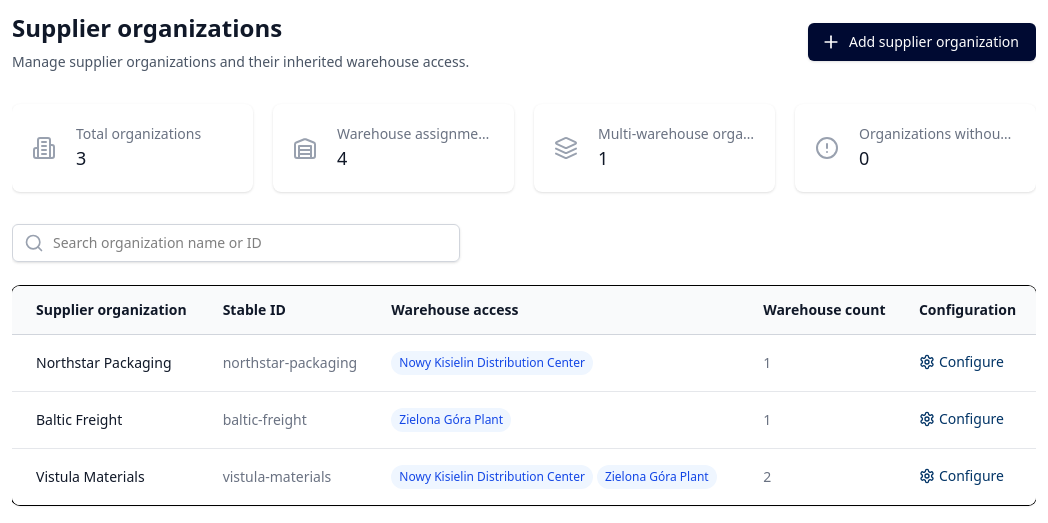
Test case: SupplierOrganizationsPage › 12. searches display names case-insensitively;
In the field labelled "Search organization name or ID": (236, 243) x1=12 y1=224 x2=460 y2=262, type "bALtIc"
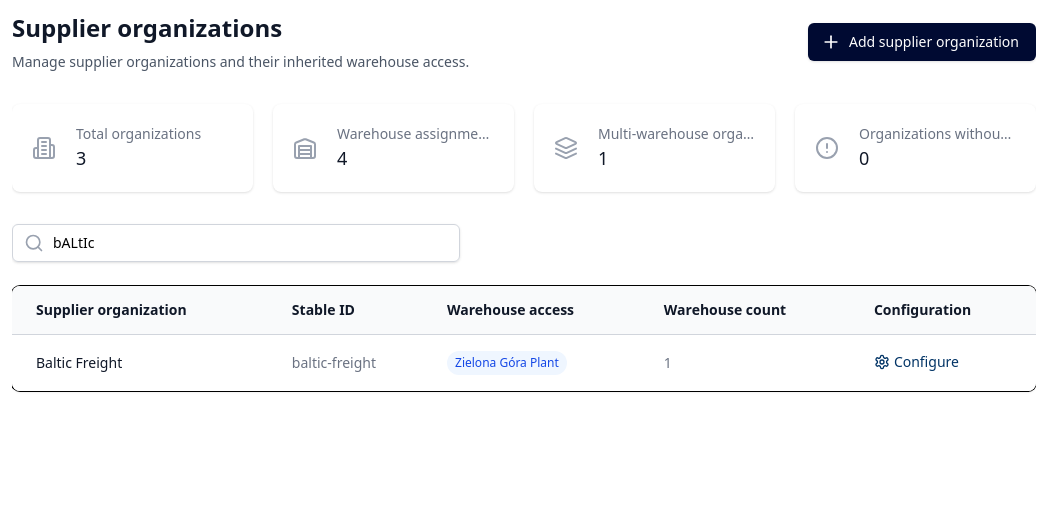
Check: the text "Baltic Freight" is shown, box x1=12 y1=334 x2=280 y2=391
Check: the text "Northstar Packaging" is gone
Check: the text "Vistula Materials" is gone
